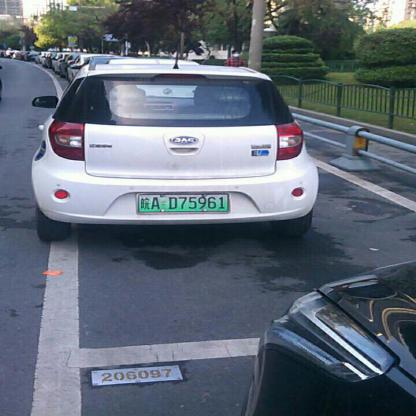lp: (138, 194, 228, 212)
